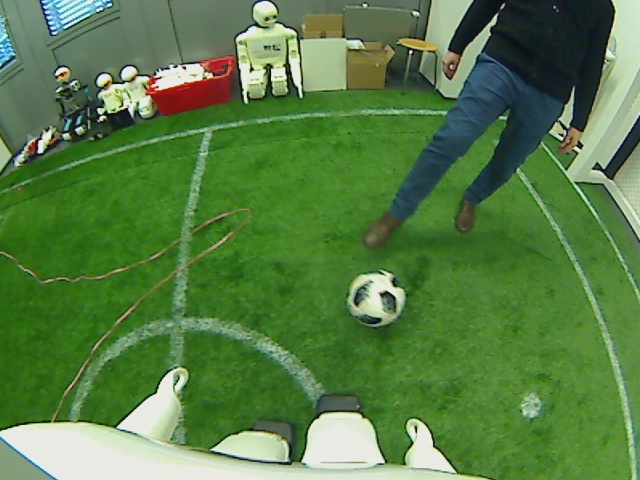ball: (344, 271, 407, 328)
